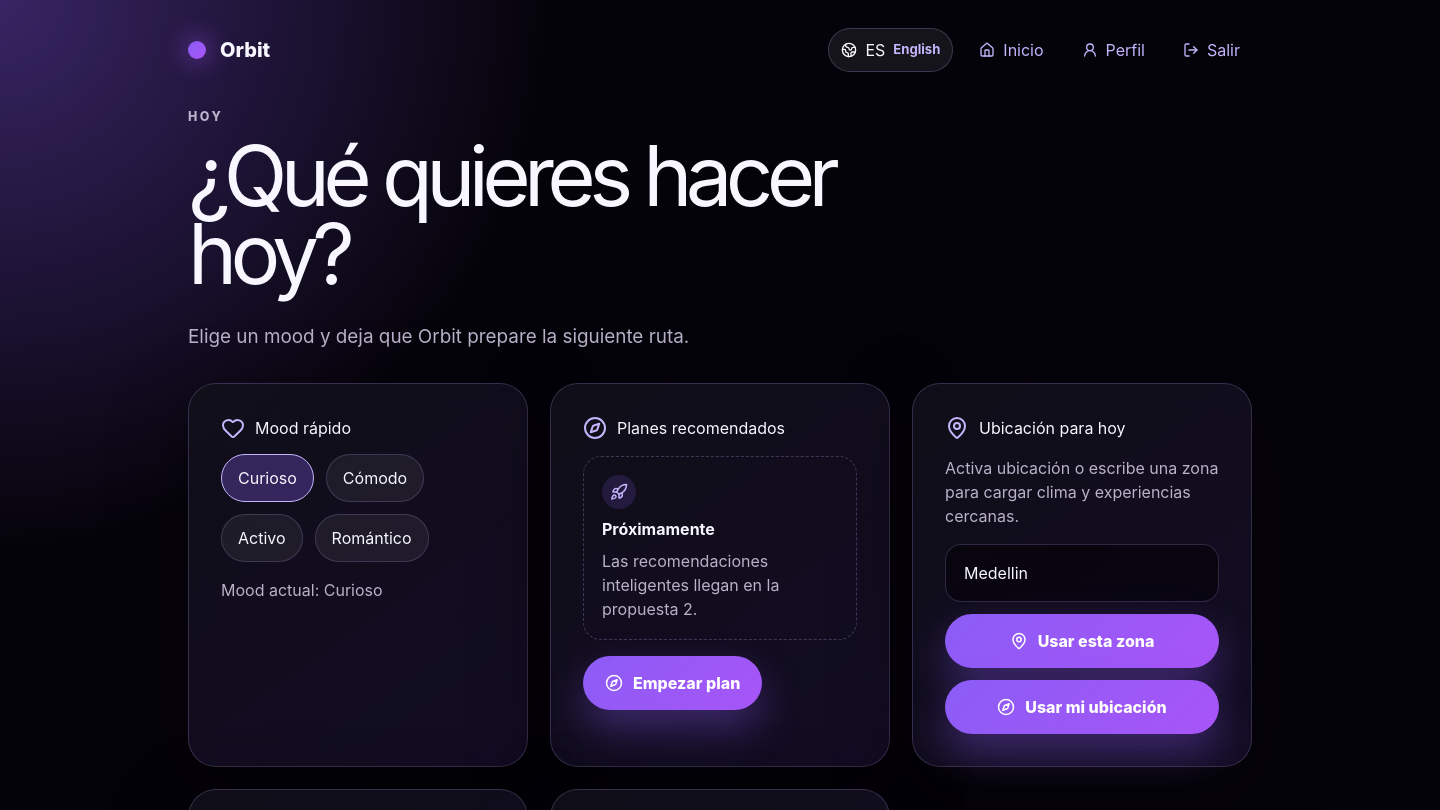
Test case: Orbit web foundation › stores dashboard mood selection in client state
The image size is (1440, 810).
Expected: the text "Mood actual: Curioso" is shown, [221,580,383,600]
Click the button "Cómodo" at point(375, 478), box [326,454,424,502]
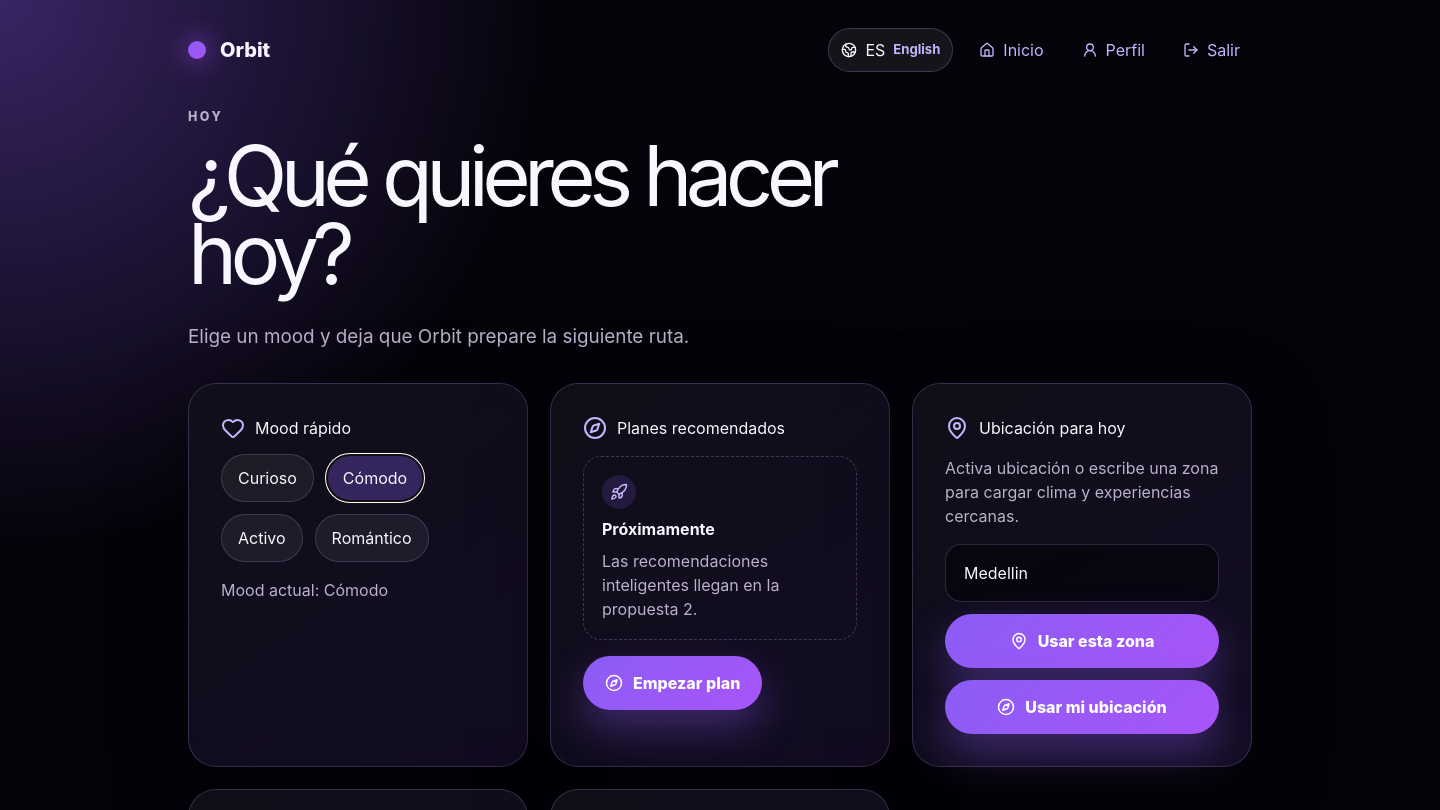
Expected: the text "Mood actual: Cómodo" is shown, [221,580,388,600]
